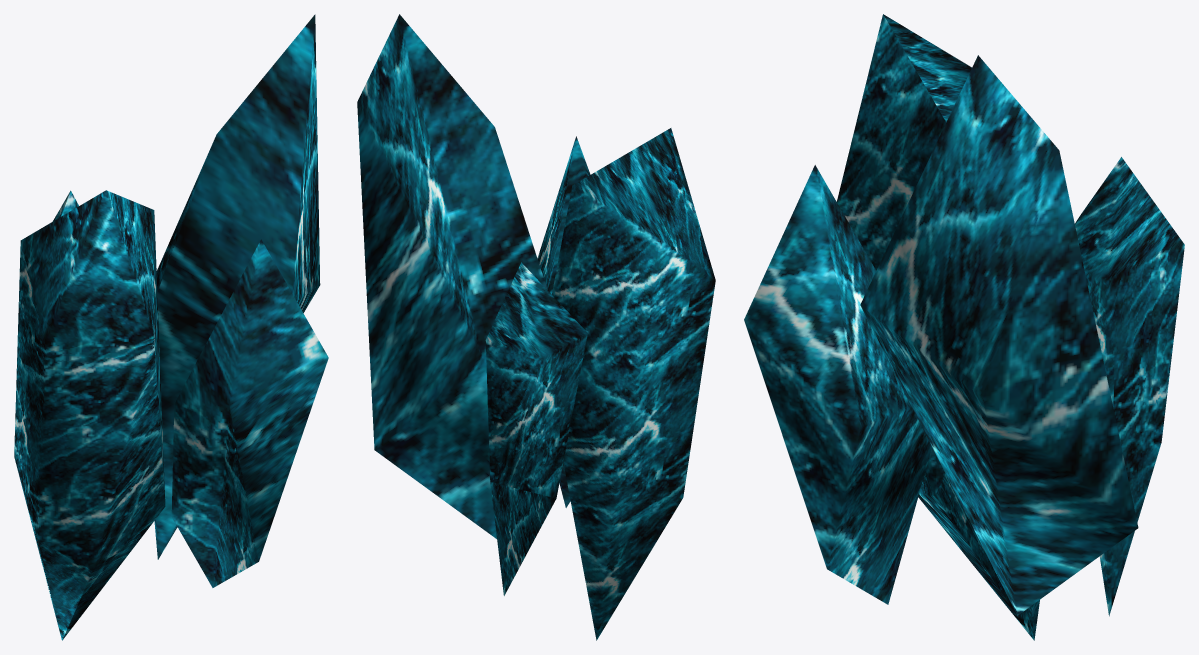
File: c_Cris1d.glb
3 views of the same model, side by side, from view 1: azimuth 30°, elevation 25°; view 2: azimuth 150°, elevation 25°; view 3: azimuth 270°, elevation 25° (orthographic). The views are drawn at different scales.
Parts seen in each view (by area): view 1: c_Cris1d-col; view 2: c_Cris1d-col; view 3: c_Cris1d-col.
Boxes of the visible parts, box(x1,y1,x2,y2) form: c_Cris1d-col: box(14, 14, 328, 640); c_Cris1d-col: box(357, 14, 715, 640); c_Cris1d-col: box(744, 14, 1184, 640).
Size of the model in its own units: 0.4698 by 0.8437 by 0.4653.
Materials: 1 (1 with a texture image).
